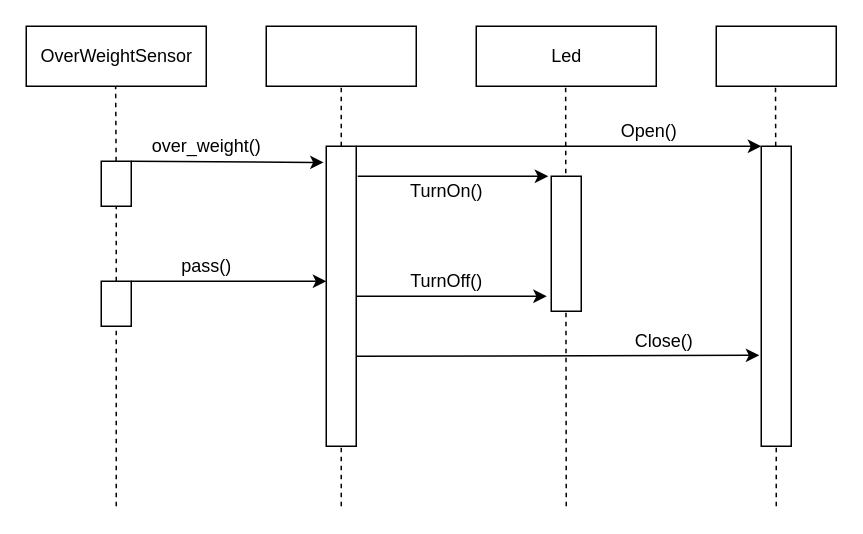
Image size: 863x534. Some labels were removed from this diagram. Here are the shapes that lost their labels. From the top down, the centre of each, then its label:
At point 340,55: "Elevator Control".
At point 775,55: "Door".
